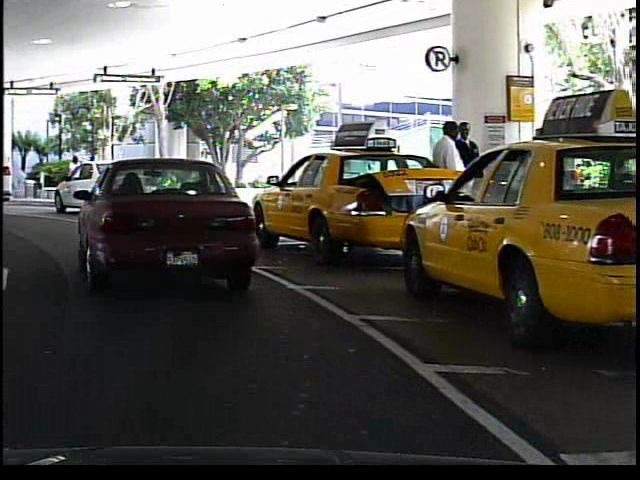person: (429, 118, 471, 243), (455, 116, 489, 237), (61, 152, 85, 197)
